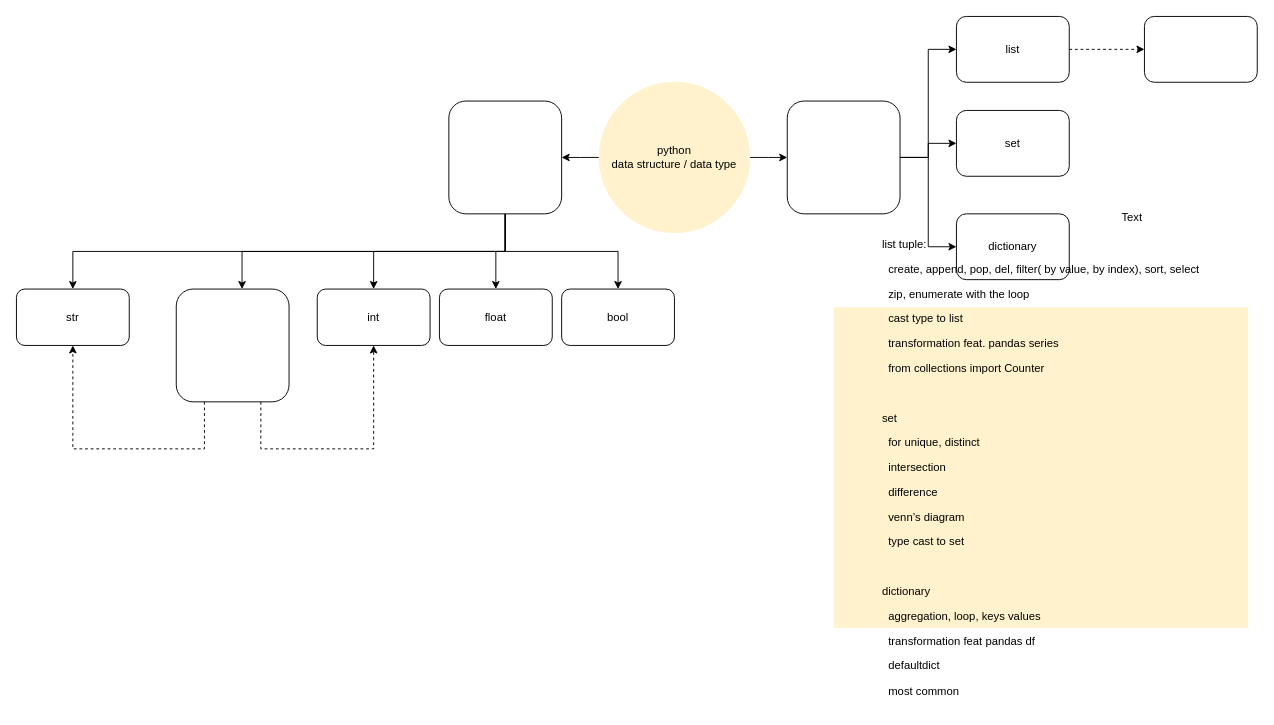
The diagram is 1274 pixels wide and 725 high, and some of its shapes have lost their labels. Here are the shapes that lost their labels. From the top down, the centre of each, then its label:
(x=1200, y=49): tuple
(x=505, y=157): primitive type
(x=843, y=157): non-primitive type
(x=232, y=345): datetime strf / strp timedelta timestamp unixtimestamp
